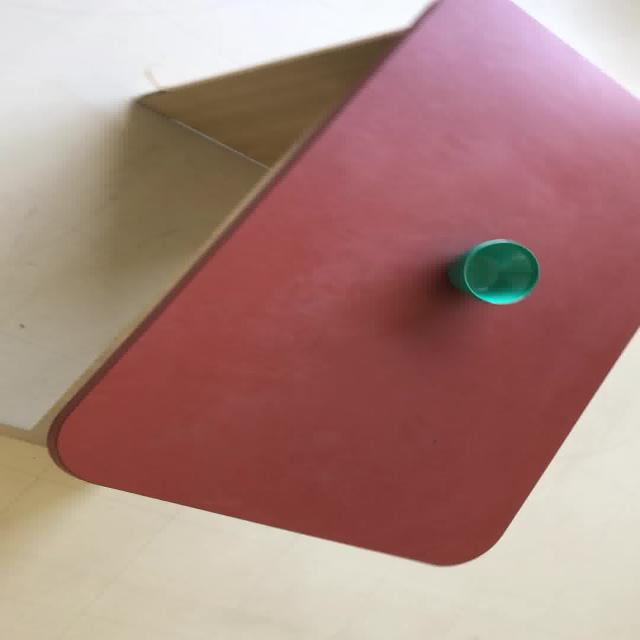bowl: (41, 0, 637, 566), (451, 238, 540, 305)
